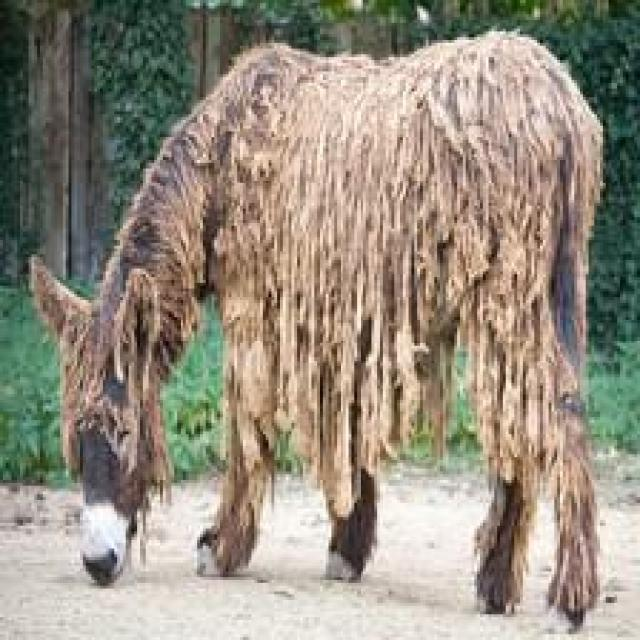Donkey: (26, 26, 606, 628)
